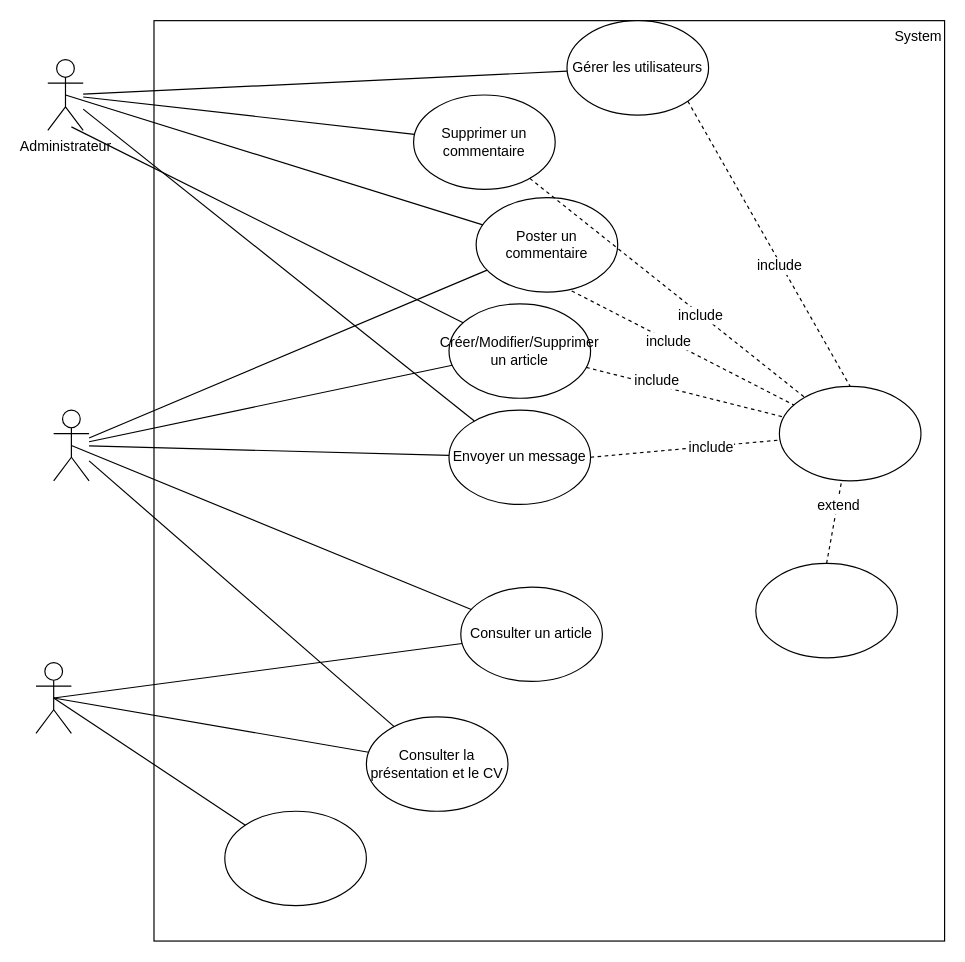
Image size: 965x962. Some labels were removed from this diagram. Here are the shapes that lost their labels. From the top down, the centre of each, then its label:
the point at 71,445: Inscrit
the point at 849,433: S'authentifier
the point at 826,610: Mot de passe oublié
the point at 53,697: Visiteur
the point at 295,858: S'inscrire
